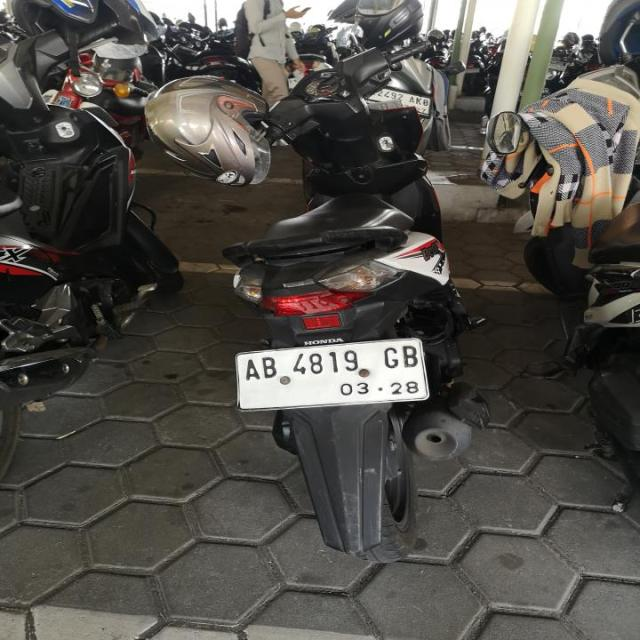License Plate: (234, 336, 431, 414)
